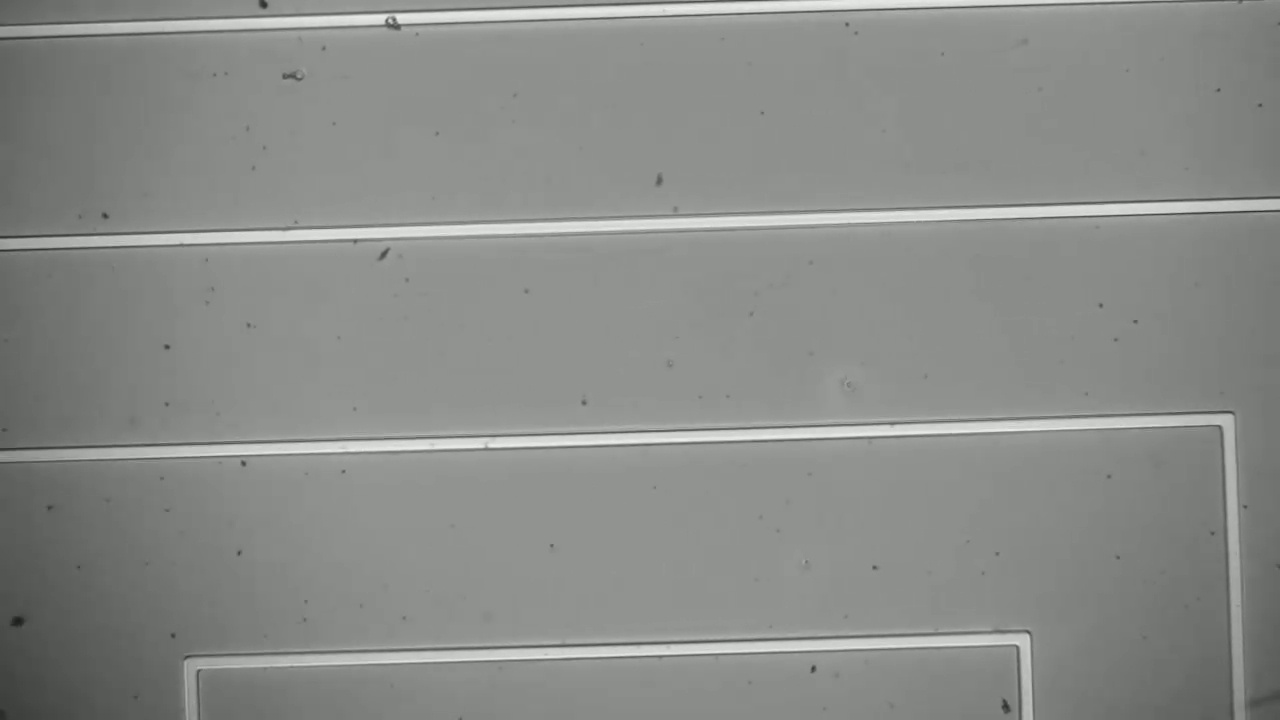stains_enbedded: (376, 4, 408, 37)
